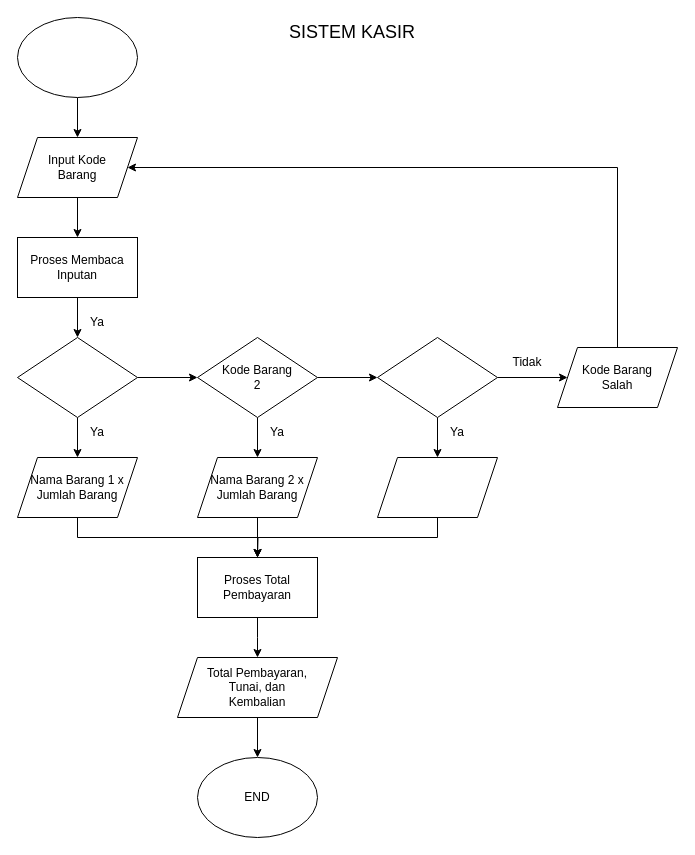
Image size: 695x855. Some labels were removed from this diagram. The centre of each missing label's shape, as x and y in pixels:
Kode Barang 1: point (77, 377)
Kode Barang 3: point (437, 377)
Nama Barang 3 x Jumlah Barang: point (437, 487)
START: point (77, 57)
